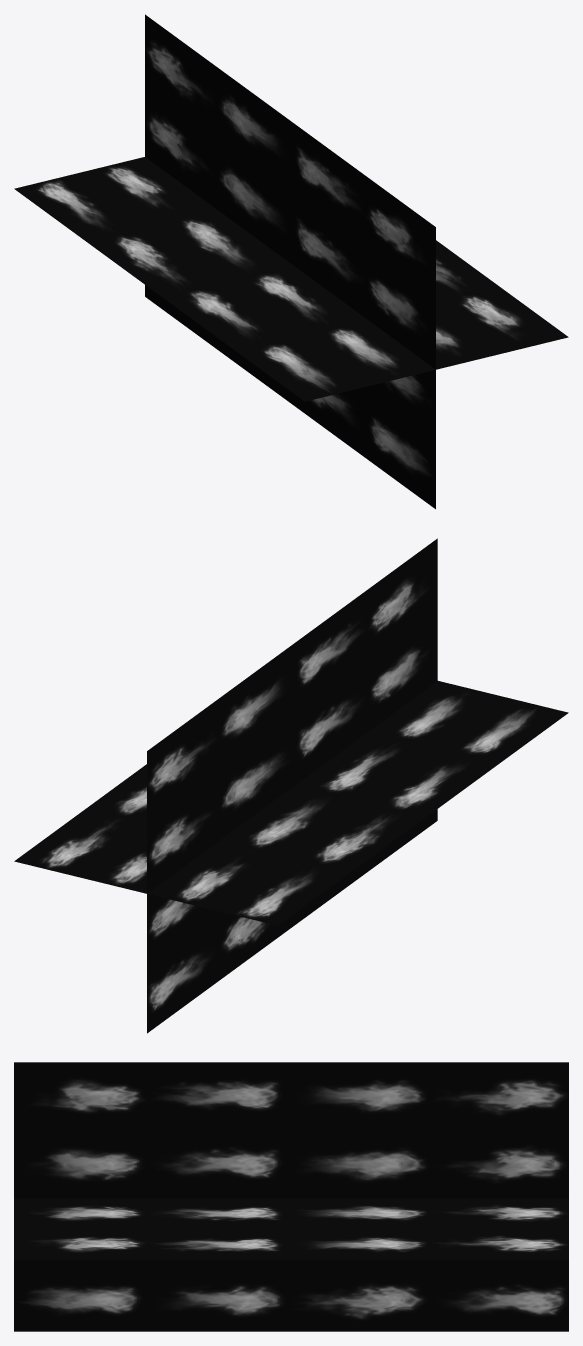
Rendered from shengtianshizhizhang002.fbx.
3 renders of one model, top to bottom at view 1: azimuth 30°, elevation 25°; view 2: azimuth 150°, elevation 25°; view 3: azimuth 270°, elevation 25°, orthographic. The views are drawn at different scales.
Visible parts, largest first — view 1: shengtianshizhizhang002; view 2: shengtianshizhizhang002; view 3: shengtianshizhizhang002.
Part boxes in pixels (box(x1,y1,x2,y2)): shengtianshizhizhang002: box(14, 14, 568, 509); shengtianshizhizhang002: box(14, 538, 568, 1033); shengtianshizhizhang002: box(14, 1062, 568, 1331).
Bounding box in the file's own units: 205 × 209 × 391.
